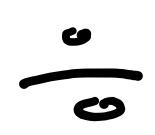div: (17, 28, 143, 122)
